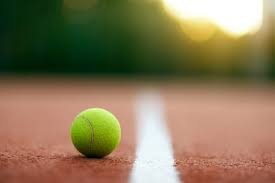tennis_ball: (69, 107, 122, 160)
